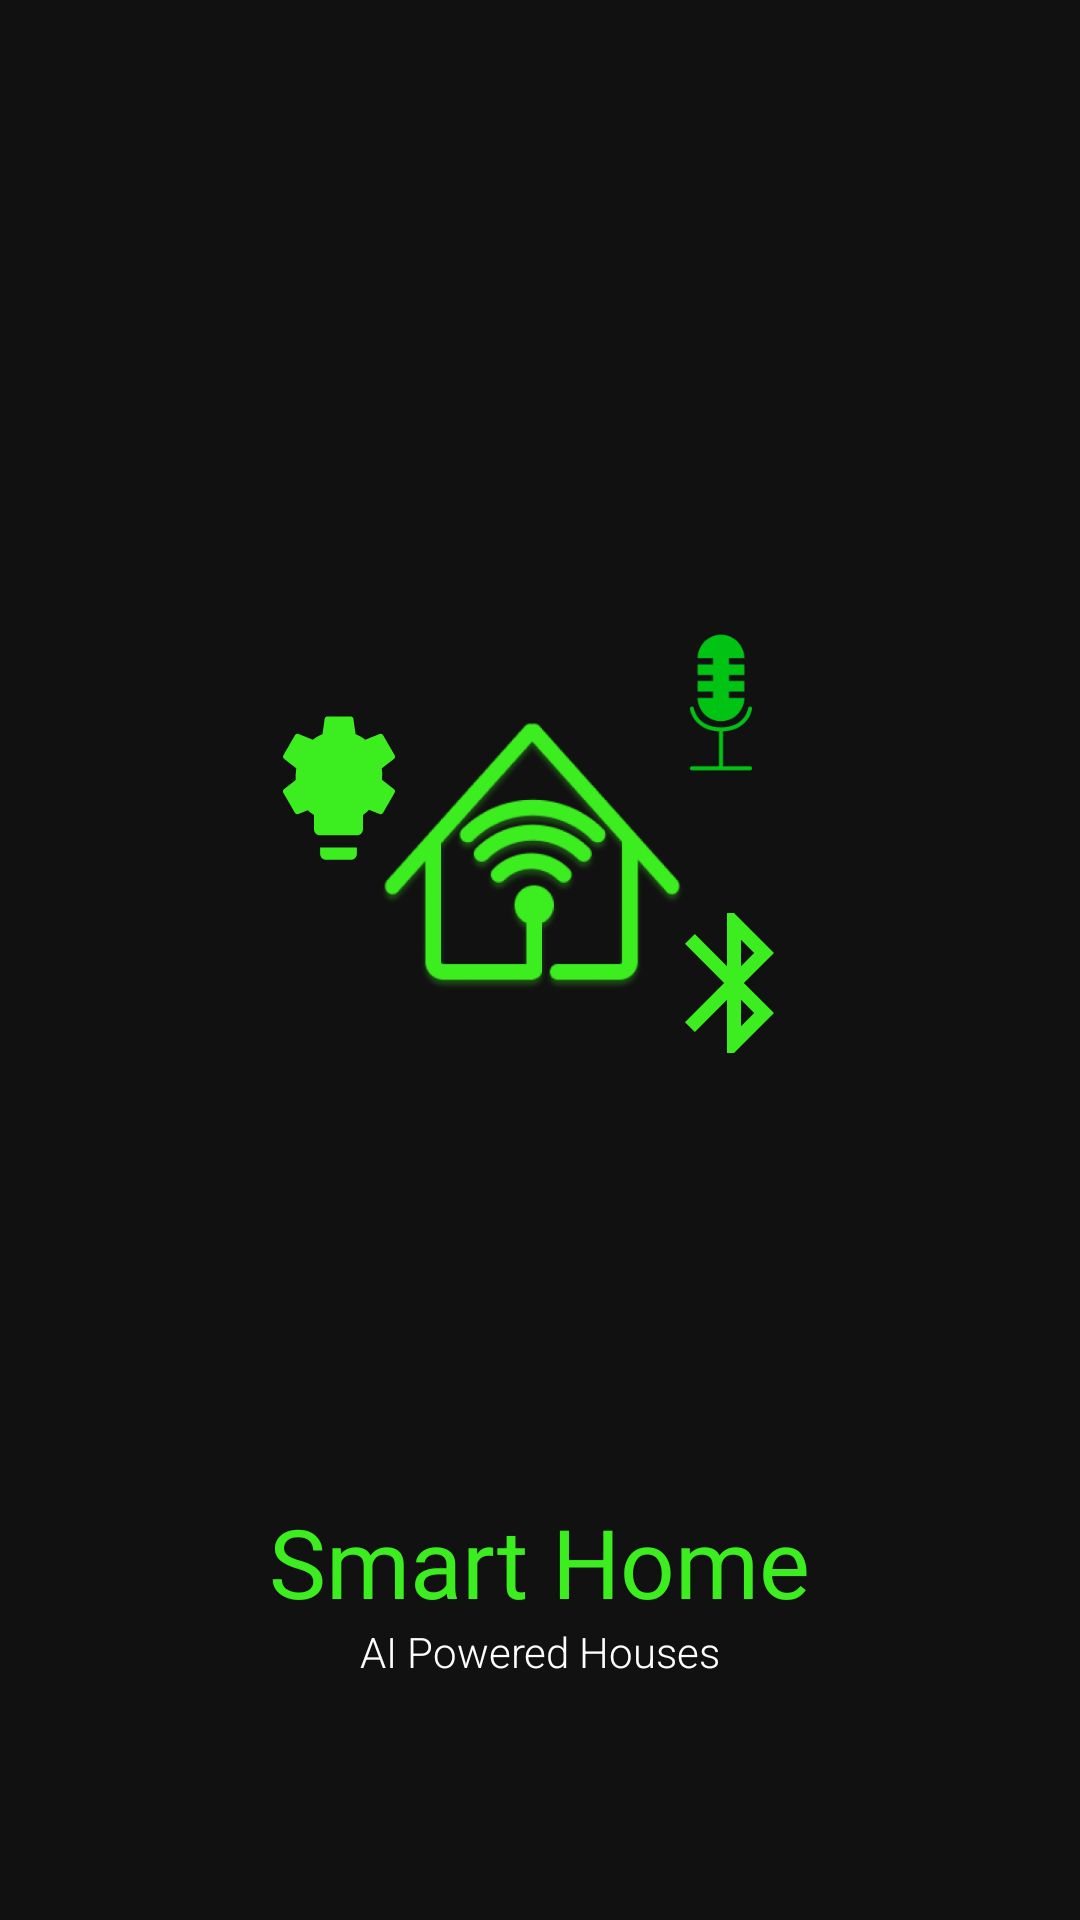

Icons on this 1080px x 1920px Android screen, each with its box as (x1, y1, x2, y2):
house: (384, 723, 680, 985)
micro base: (690, 634, 752, 771)
